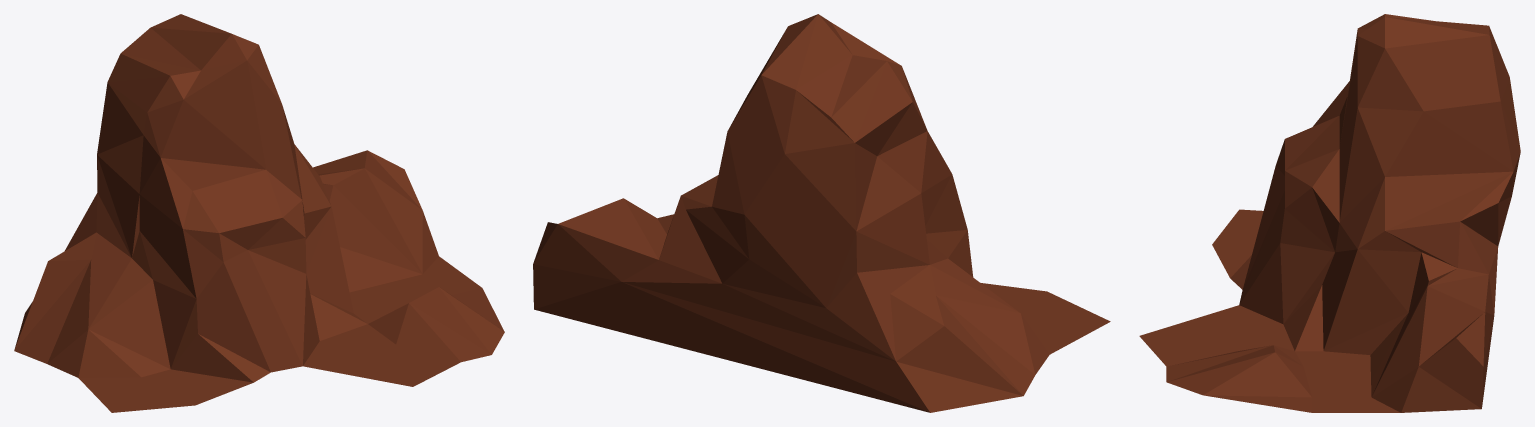
Rendered from 06 Mountain_2.FBX.glb.
3 views of the same model, side by side, from view 1: azimuth 30°, elevation 25°; view 2: azimuth 150°, elevation 25°; view 3: azimuth 270°, elevation 25° (orthographic). The views are drawn at different scales.
Parts seen in each view (by area): view 1: Mountain_2.1; view 2: Mountain_2.1; view 3: Mountain_2.1.
Boxes of the visible parts, x1=… form: Mountain_2.1: x1=14, y1=14, x2=504, y2=412; Mountain_2.1: x1=533, y1=14, x2=1110, y2=412; Mountain_2.1: x1=1139, y1=14, x2=1520, y2=412.
Size of the model in its own units: 3113 by 2009 by 2410.
